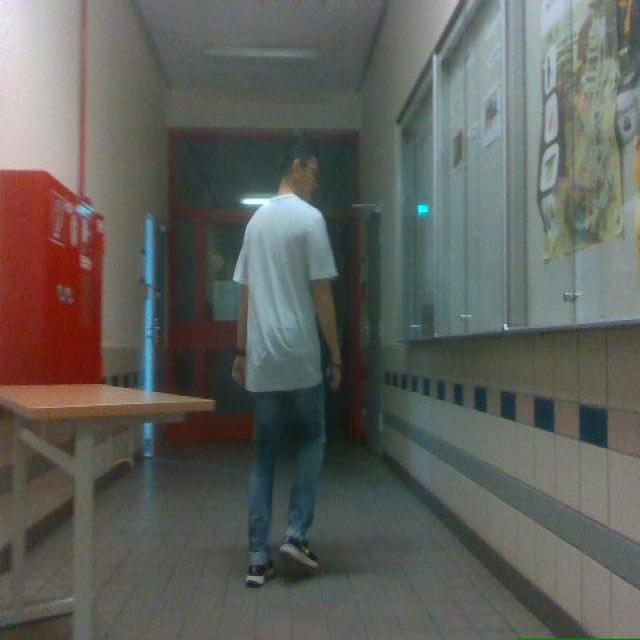humans: (232, 135, 342, 587)
objects: (0, 384, 214, 639)
